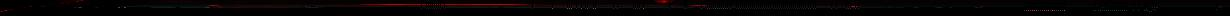Blue cone: (29, 6, 33, 7), (21, 7, 25, 8)
Yellow cone: (655, 0, 672, 3), (979, 6, 984, 8), (1218, 6, 1223, 8)
